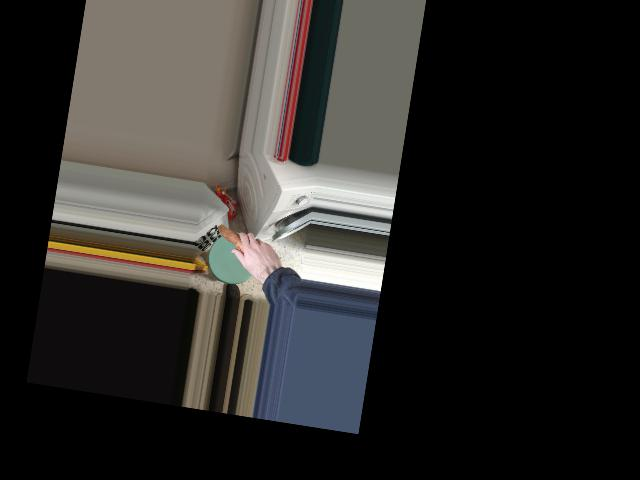sweet_potato: (214, 224, 270, 270)
